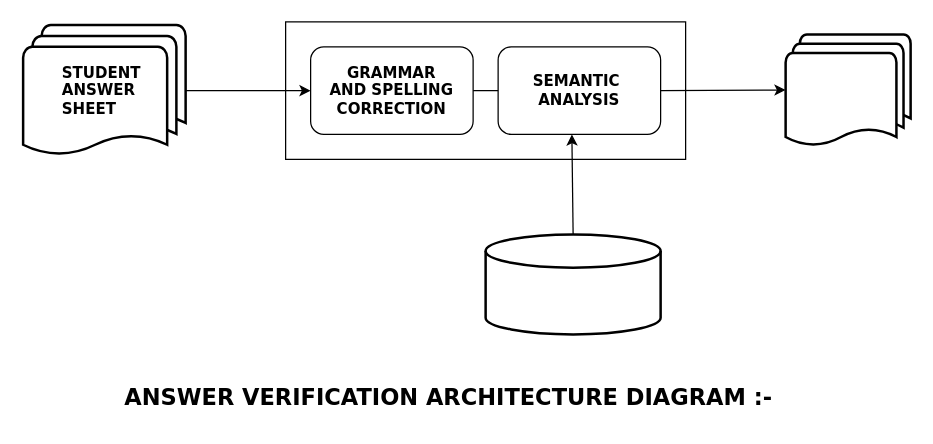
Image size: 933x444. Some labels were removed from this diagram. Here are the shapes that lost their labels. From the top down, the centre of each, then its label:
At (847,90): "RESULT".
At (572,283): "DATABASE OF SAMPLE PAPER".
